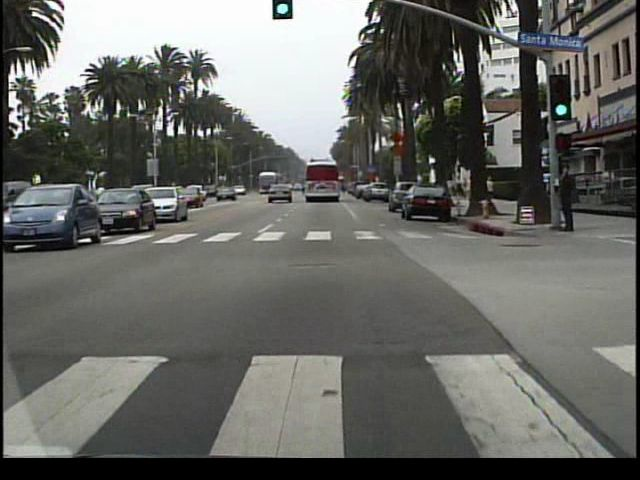person: (553, 159, 576, 236)
